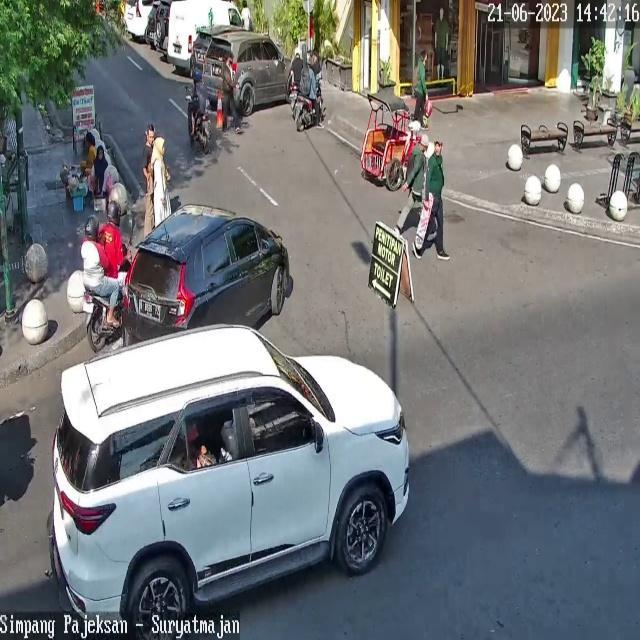Ad-signs: (367, 220, 407, 308)
Car: (47, 322, 411, 636), (119, 201, 293, 348)
Motorcycle: (183, 85, 212, 155)
TokTok: (359, 92, 421, 191)
